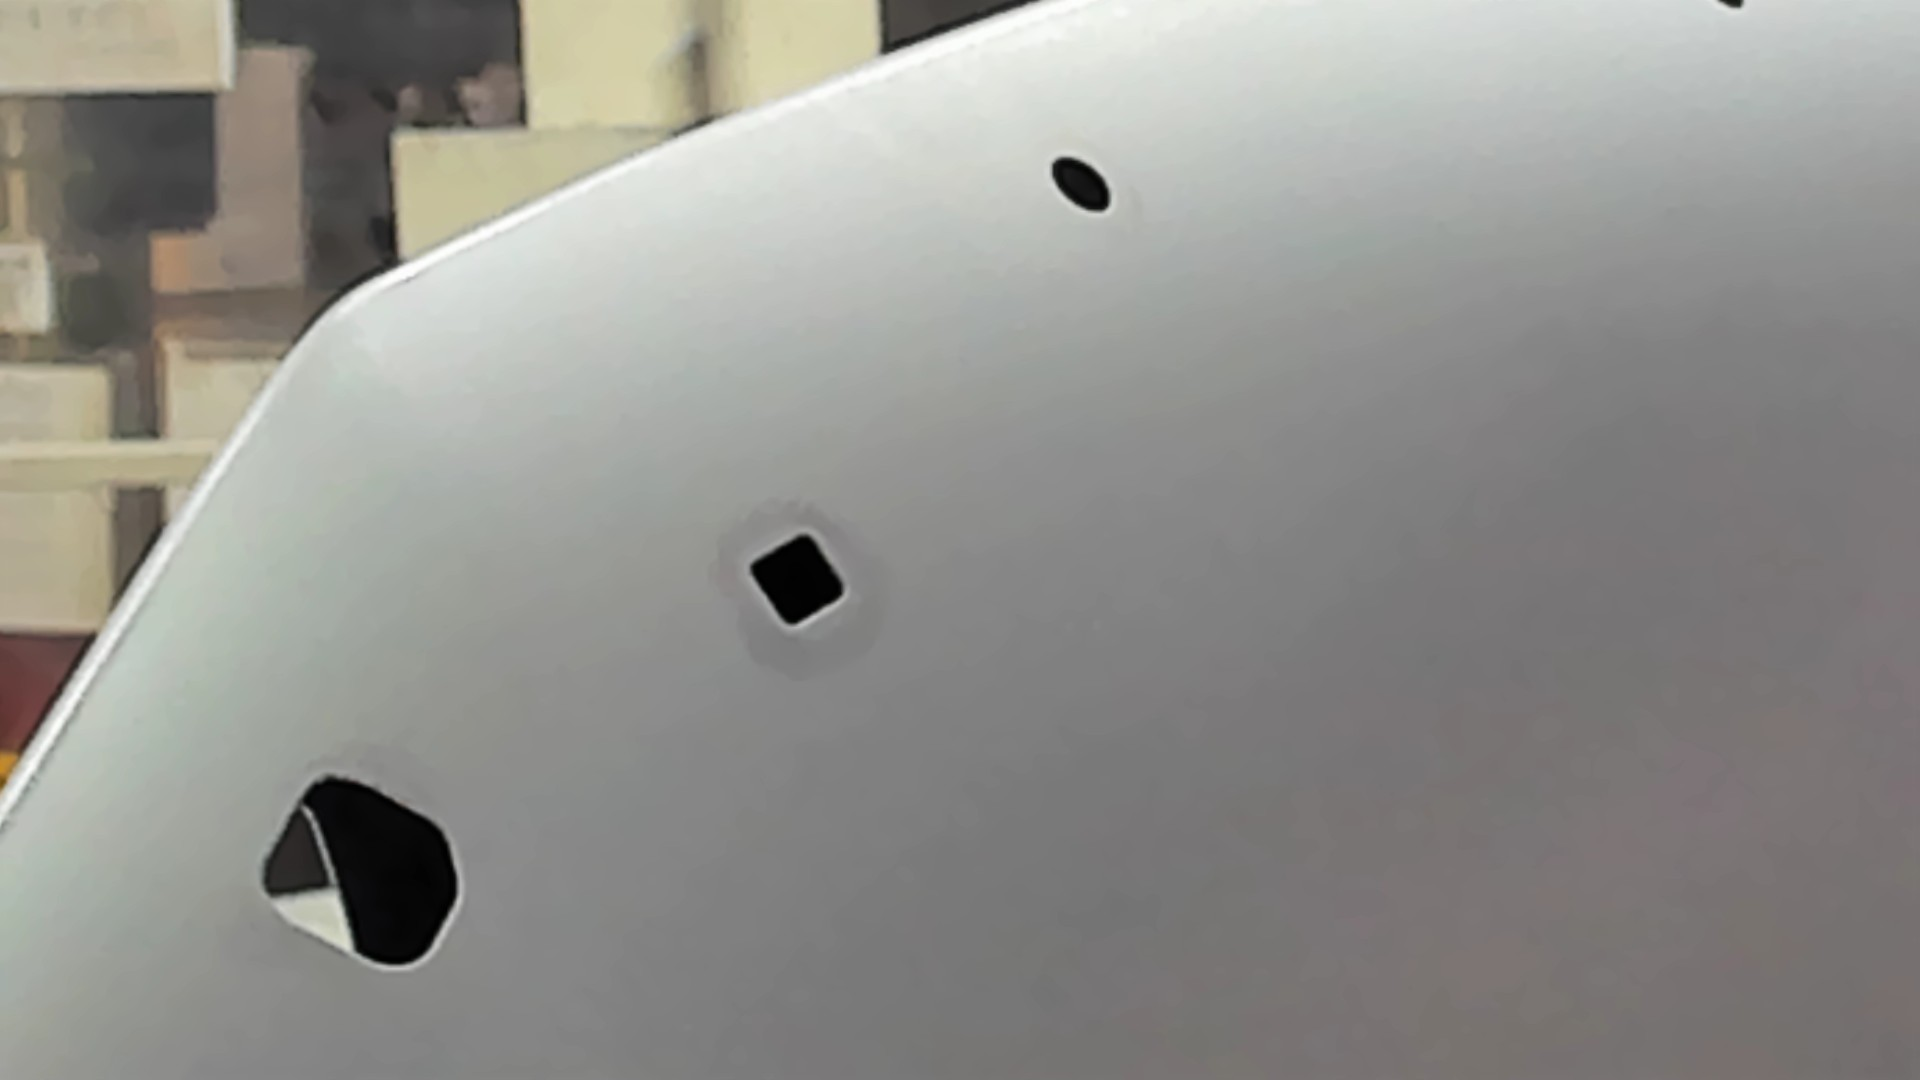chico: (1046, 149, 1116, 220)
grande: (255, 765, 468, 978)
mediano: (741, 524, 855, 636)
